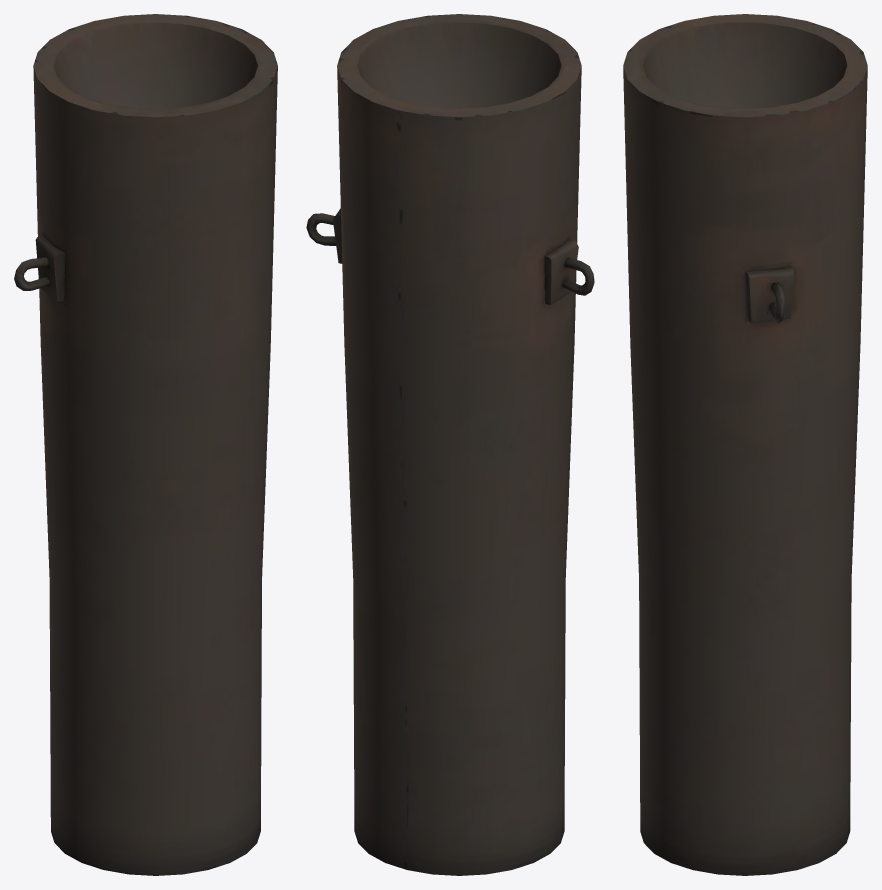
3 views of the same model, side by side, from view 1: azimuth 30°, elevation 25°; view 2: azimuth 150°, elevation 25°; view 3: azimuth 270°, elevation 25° (orthographic).
Visible parts, largest first — view 1: body0_model0_lod0_mesh0; view 2: body0_model0_lod0_mesh0; view 3: body0_model0_lod0_mesh0.
Part boxes in pixels (x1=…): body0_model0_lod0_mesh0: x1=14, y1=14, x2=277, y2=875; body0_model0_lod0_mesh0: x1=306, y1=14, x2=594, y2=875; body0_model0_lod0_mesh0: x1=623, y1=14, x2=867, y2=875.
Bounding box in the file's own units: 59.83 × 160 × 46.36.
Materials: 1 (1 with a texture image).
